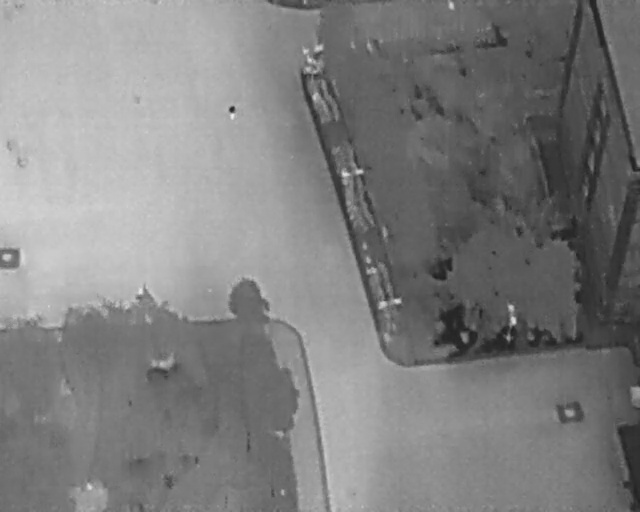Person: (227, 103, 237, 121)
